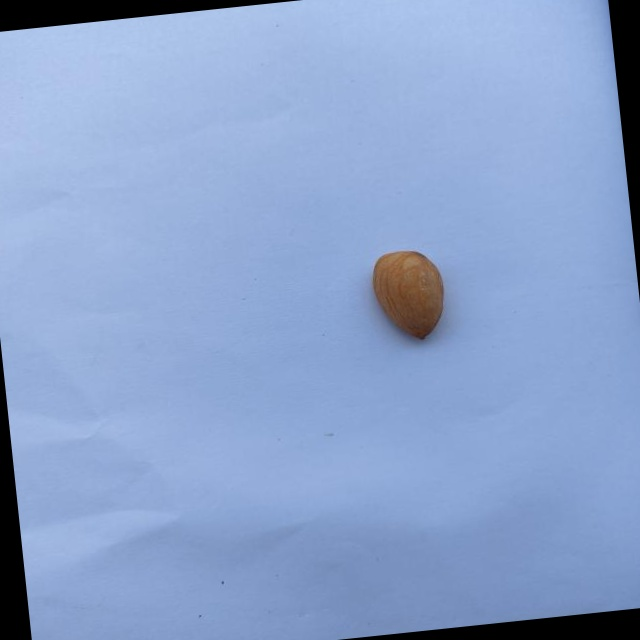grade2: (363, 244, 452, 348)
